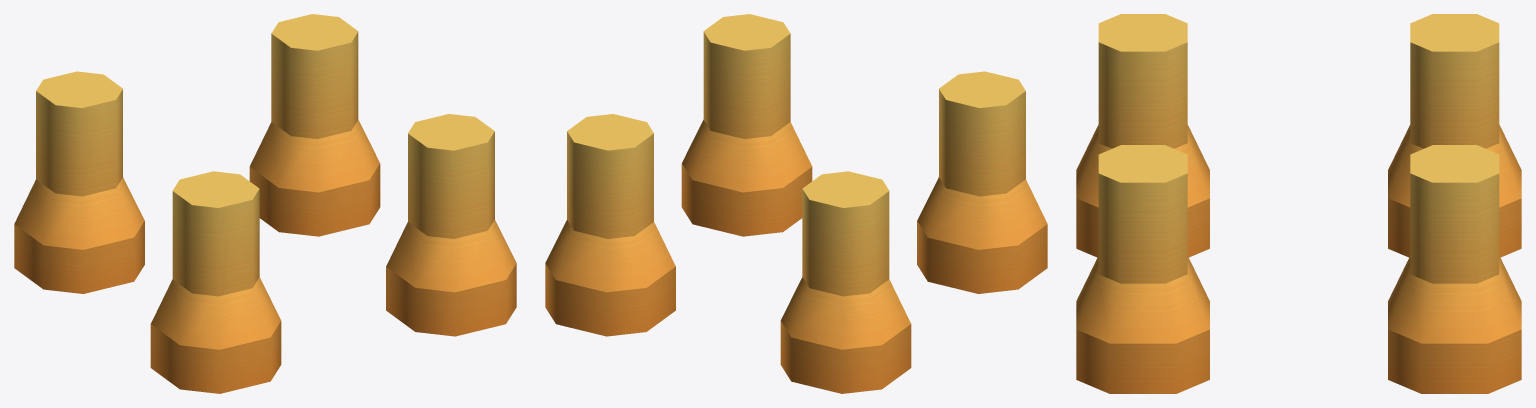
The model's file is support-color-four-bottom-col.glb.
The picture shows the model from 3 angles, left to right: view 1: azimuth 30°, elevation 25°; view 2: azimuth 150°, elevation 25°; view 3: azimuth 270°, elevation 25°; orthographic projection. The views are drawn at different scales.
Parts seen in each view (by area): view 1: support-color-four-bottom-col; view 2: support-color-four-bottom-col; view 3: support-color-four-bottom-col.
Part boxes in pixels (x1=…): support-color-four-bottom-col: x1=14, y1=14, x2=516, y2=393; support-color-four-bottom-col: x1=545, y1=14, x2=1047, y2=393; support-color-four-bottom-col: x1=1076, y1=14, x2=1521, y2=393.
Bounding box in the file's own units: 0.9969 × 0.5 × 1.
Materials: 1 (1 with a texture image).
